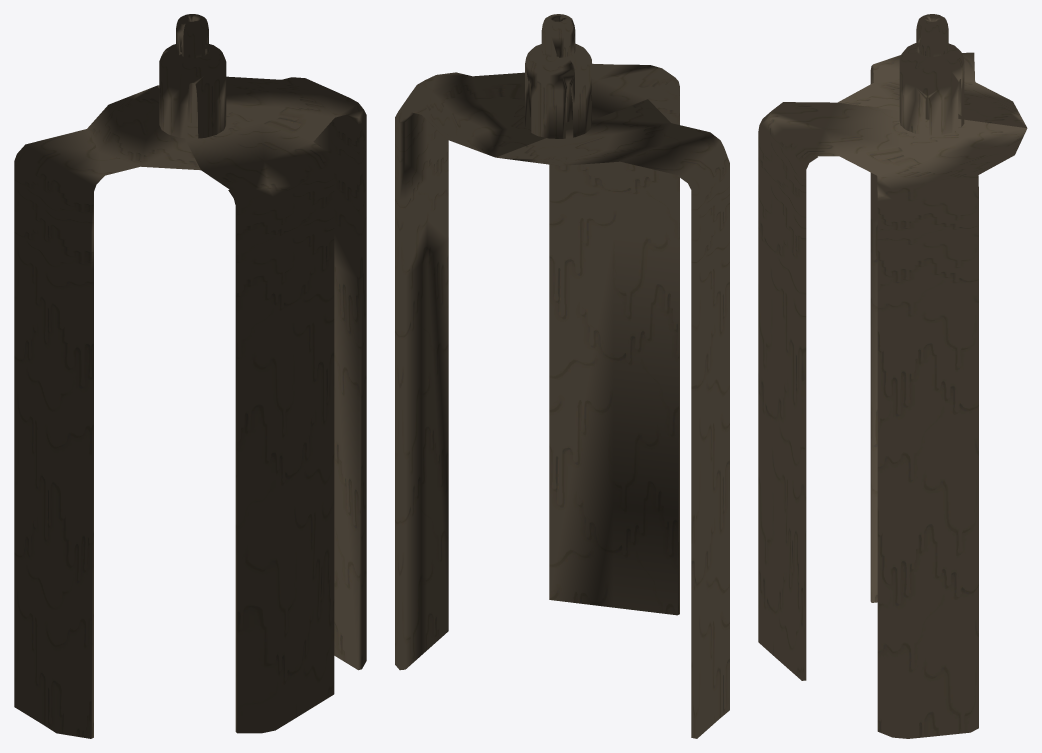
The model's file is stg220_MotChocoA_10.obj.
The picture shows the model from 3 angles, left to right: view 1: azimuth 30°, elevation 25°; view 2: azimuth 150°, elevation 25°; view 3: azimuth 270°, elevation 25°; orthographic projection. The views are drawn at different scales.
Visible parts, largest first — view 1: polygon0, polygon1, polygon2; view 2: polygon0, polygon1, polygon2; view 3: polygon0, polygon1, polygon2.
Part boxes in pixels (x1,y1,x2,y2): polygon0: [14, 76, 366, 738]; polygon1: [159, 44, 226, 138]; polygon2: [176, 14, 208, 122]; polygon0: [395, 63, 729, 738]; polygon1: [525, 43, 591, 138]; polygon2: [541, 14, 575, 122]; polygon0: [758, 52, 1027, 738]; polygon1: [899, 43, 964, 135]; polygon2: [916, 14, 948, 119].
Size of the model in its own units: 926 by 1868 by 705.
1 material, 1 textured.
